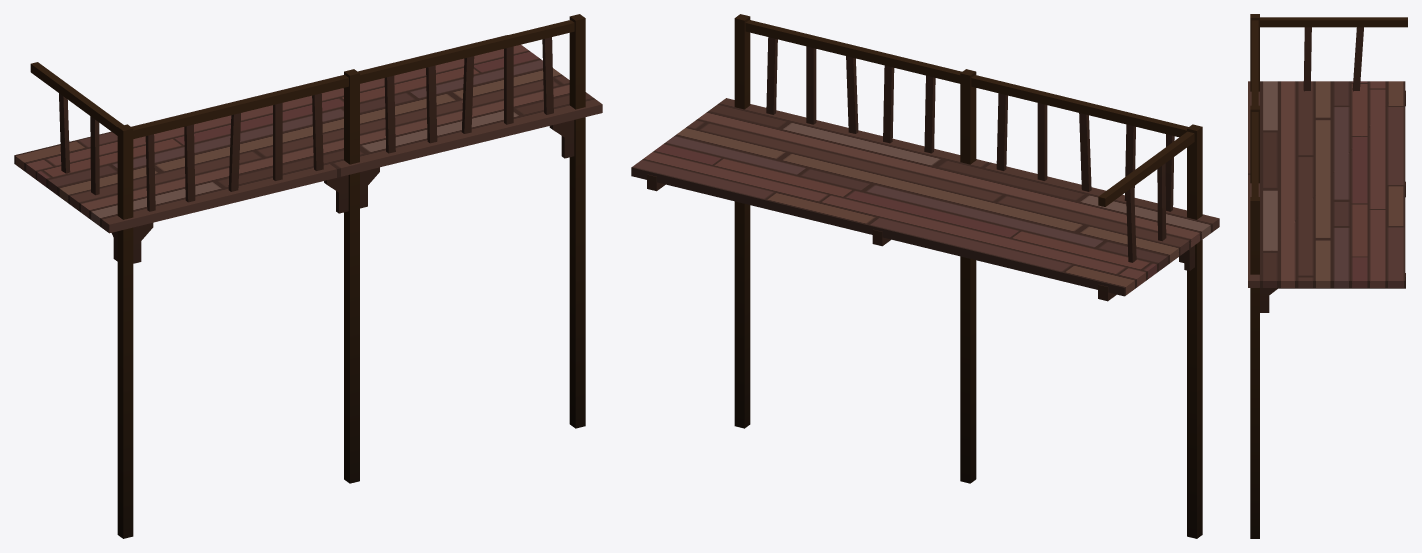
Rendered from Deck 6M v07.glb.
The picture shows the model from 3 angles, left to right: view 1: azimuth 30°, elevation 25°; view 2: azimuth 150°, elevation 25°; view 3: azimuth 270°, elevation 25°; orthographic projection. The views are drawn at different scales.
Parts seen in each view (by area): view 1: Deck 6M v07; view 2: Deck 6M v07; view 3: Deck 6M v07.
Part boxes in pixels (x1,y1,x2,y2): Deck 6M v07: [14, 14, 602, 538]; Deck 6M v07: [631, 14, 1219, 538]; Deck 6M v07: [1248, 14, 1407, 538].
Size of what is drawn, in the model's own units: 6 by 4.74 by 2.03.
2 materials, 2 textured.
